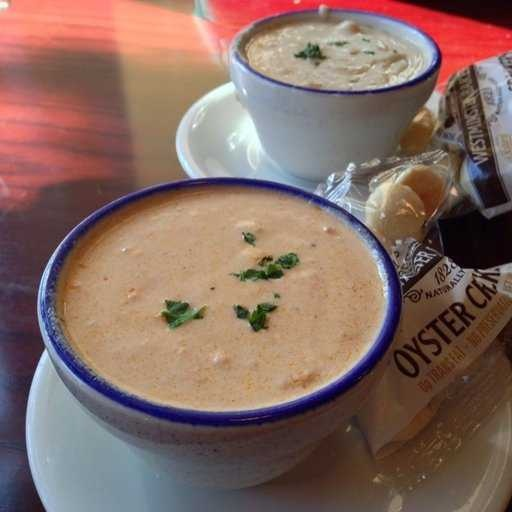soup: (61, 185, 361, 395), (250, 8, 419, 87)
